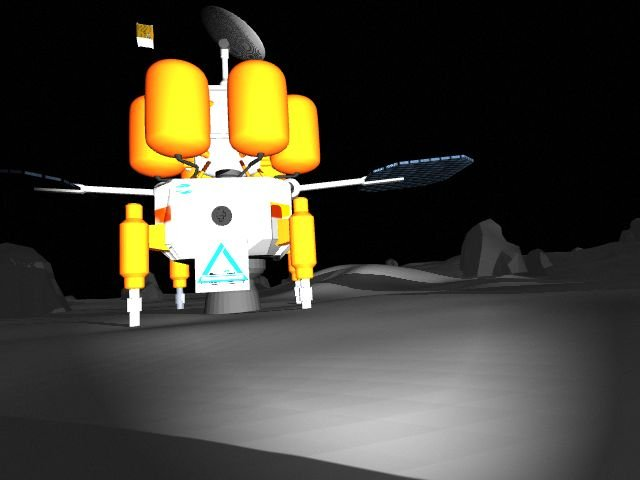basemarker: (198, 240, 249, 285)
